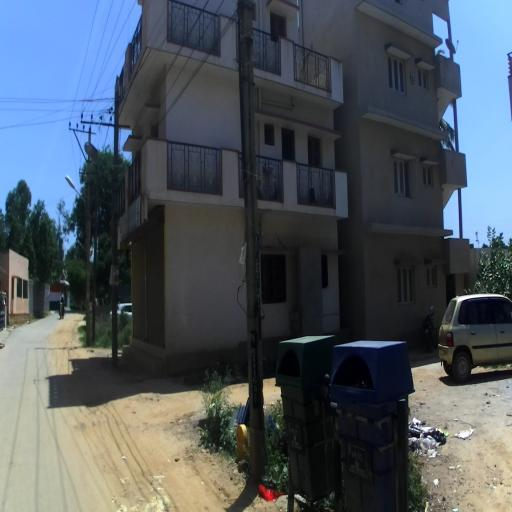street_light_0: (64, 175, 90, 221)
